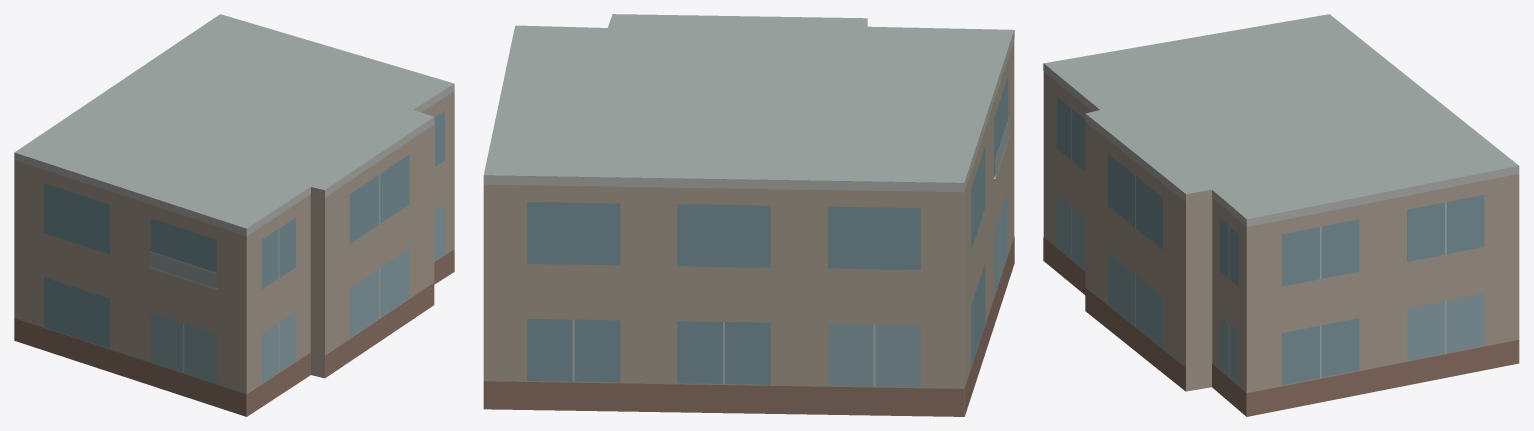
File: survey-upis-32641436.glb
3 renders of one model, left to right at view 1: azimuth 30°, elevation 25°; view 2: azimuth 150°, elevation 25°; view 3: azimuth 270°, elevation 25°, orthographic. The views are drawn at different scales.
Parts seen in each view (by area): view 1: survey-upis-32641436.tmp; view 2: survey-upis-32641436.tmp; view 3: survey-upis-32641436.tmp.
Part boxes in pixels (x1=…): survey-upis-32641436.tmp: x1=14, y1=14, x2=454, y2=416; survey-upis-32641436.tmp: x1=483, y1=14, x2=1014, y2=416; survey-upis-32641436.tmp: x1=1043, y1=14, x2=1519, y2=416.
Size of the model in its own units: 13.61 by 6.1 by 13.33.
